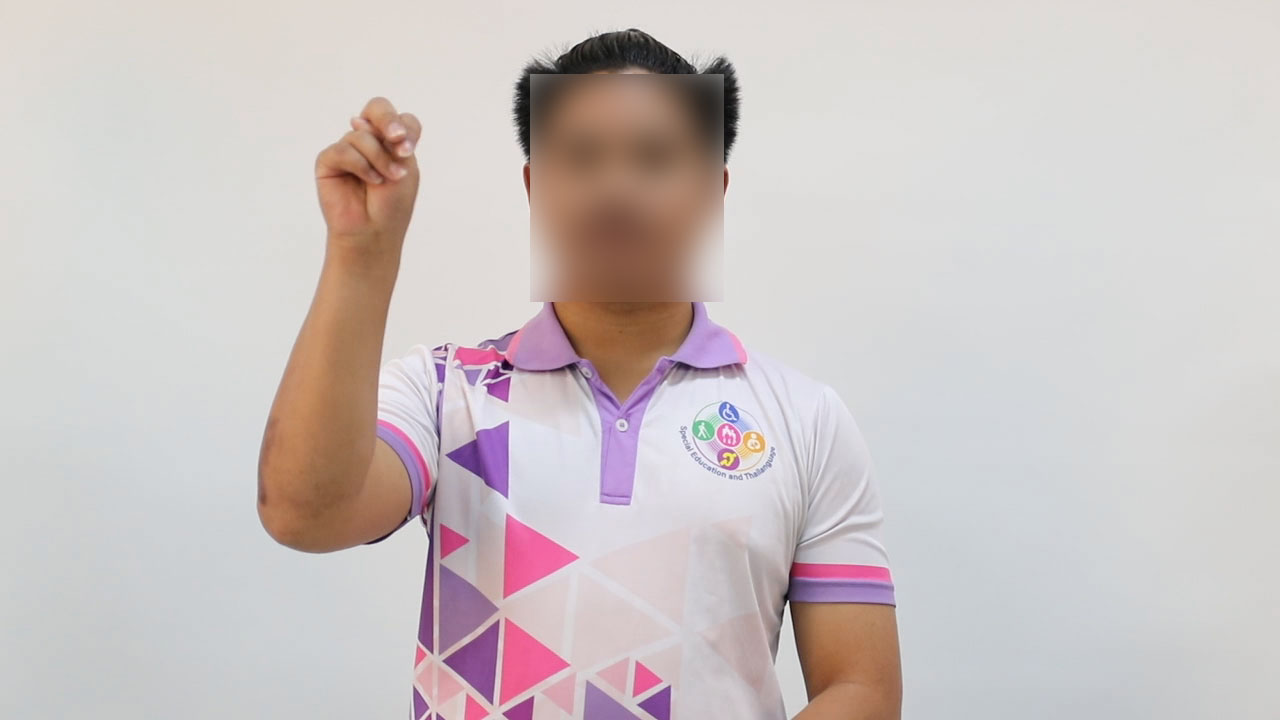nor: (308, 92, 432, 260)
